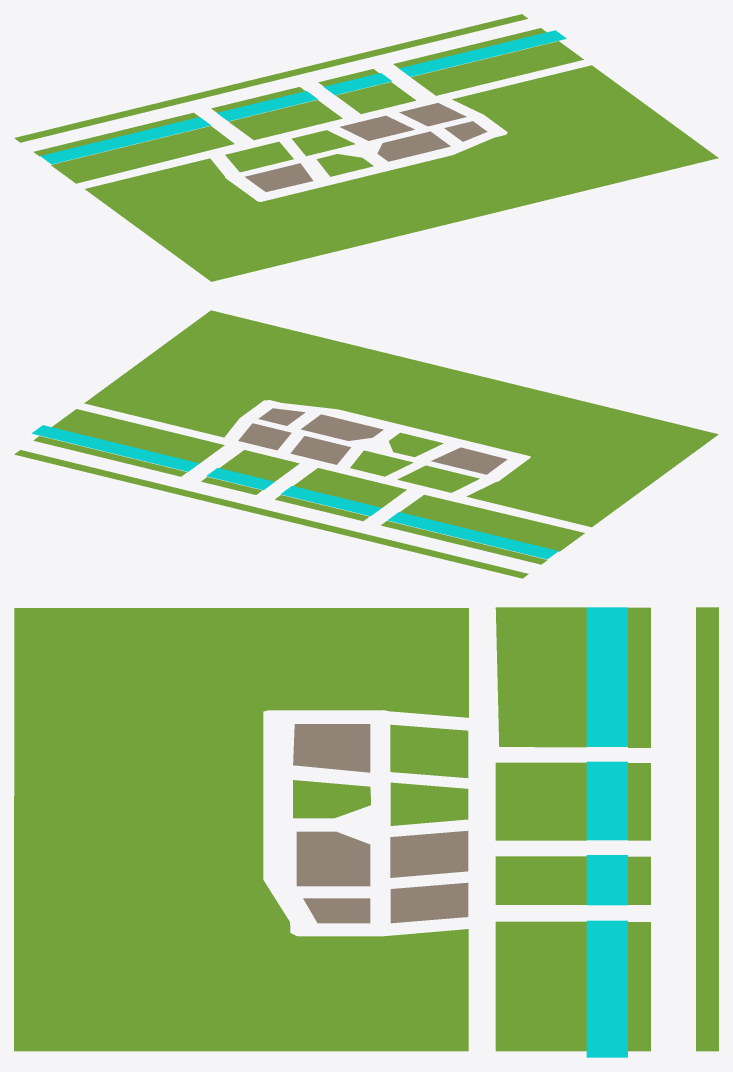
File: map_02_02.fbx
3 renders of one model, top to bottom at view 1: azimuth 30°, elevation 25°; view 2: azimuth 150°, elevation 25°; view 3: azimuth 270°, elevation 25°, orthographic. The views are drawn at different scales.
Parts seen in each view (by area): view 1: grass_base, water_plane, sand_base_3, sand_base_1, sand_base_2; view 2: grass_base, water_plane, sand_base_3, sand_base_1, sand_base_2; view 3: grass_base, water_plane, sand_base_3, sand_base_1, sand_base_2.
Part boxes in pixels (bbox=[...]): grass_base: bbox=[14, 14, 718, 281]; water_plane: bbox=[40, 30, 566, 164]; sand_base_3: bbox=[377, 131, 450, 161]; sand_base_1: bbox=[399, 103, 466, 126]; sand_base_2: bbox=[444, 121, 487, 141]; grass_base: bbox=[14, 310, 718, 578]; water_plane: bbox=[31, 425, 558, 559]; sand_base_3: bbox=[301, 414, 383, 440]; sand_base_1: bbox=[238, 423, 291, 450]; sand_base_2: bbox=[258, 408, 305, 425]; grass_base: bbox=[14, 607, 718, 1051]; water_plane: bbox=[586, 607, 627, 1057]; sand_base_3: bbox=[296, 831, 370, 886]; sand_base_1: bbox=[390, 882, 468, 923]; sand_base_2: bbox=[303, 898, 370, 923].
Bounding box in the file's own units: 1384 × 1.09 × 913.
